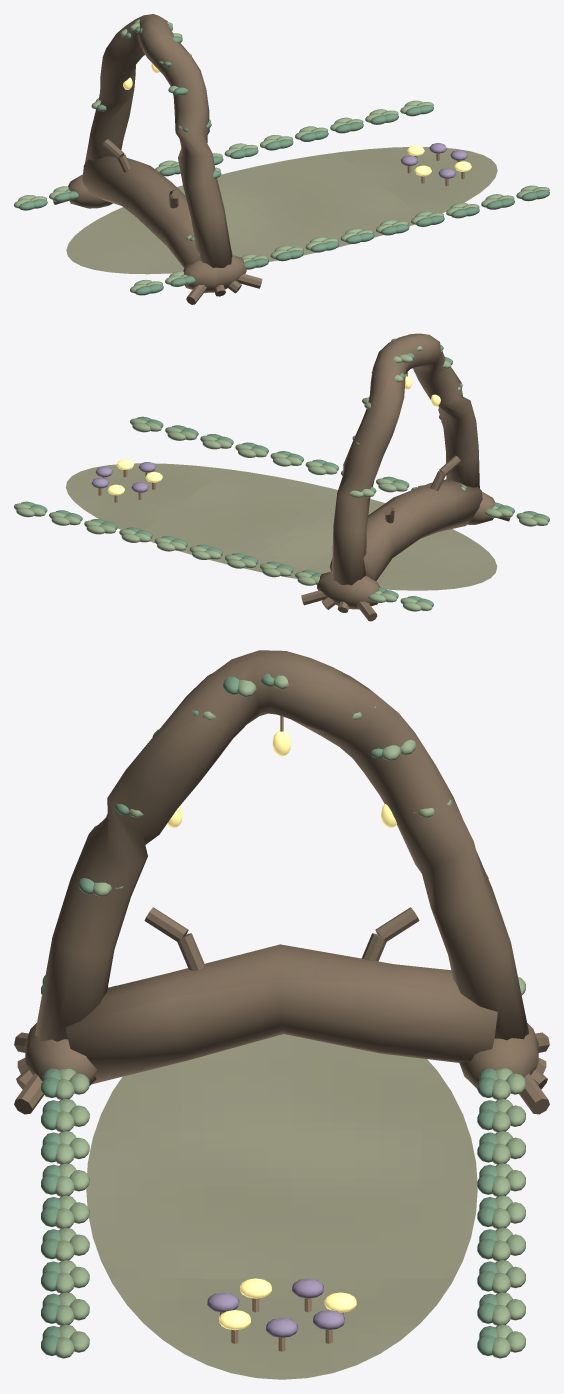
Rendered from opening-fallen-tree.glb.
3 renders of one model, top to bottom at view 1: azimuth 30°, elevation 25°; view 2: azimuth 150°, elevation 25°; view 3: azimuth 270°, elevation 25°, orthographic. The views are drawn at different scales.
Parts seen in each view (by area): view 1: Forest hamlet, open:fallenTree, shut:fallenTree; view 2: Forest hamlet, open:fallenTree, shut:fallenTree; view 3: Forest hamlet, open:fallenTree, shut:fallenTree.
Part boxes in pixels (x1,y1,x2,y2): Forest hamlet: (14, 100, 549, 304); open:fallenTree: (84, 14, 232, 267); shut:fallenTree: (82, 139, 232, 267); Forest hamlet: (14, 416, 549, 621); open:fallenTree: (332, 333, 479, 585); shut:fallenTree: (329, 455, 482, 580); Forest hamlet: (14, 975, 549, 1379); open:fallenTree: (35, 650, 529, 1041); shut:fallenTree: (65, 907, 497, 1084).
Size of the model in its own units: 6.5 by 3.38 by 3.83.
7 materials, 7 textured.
